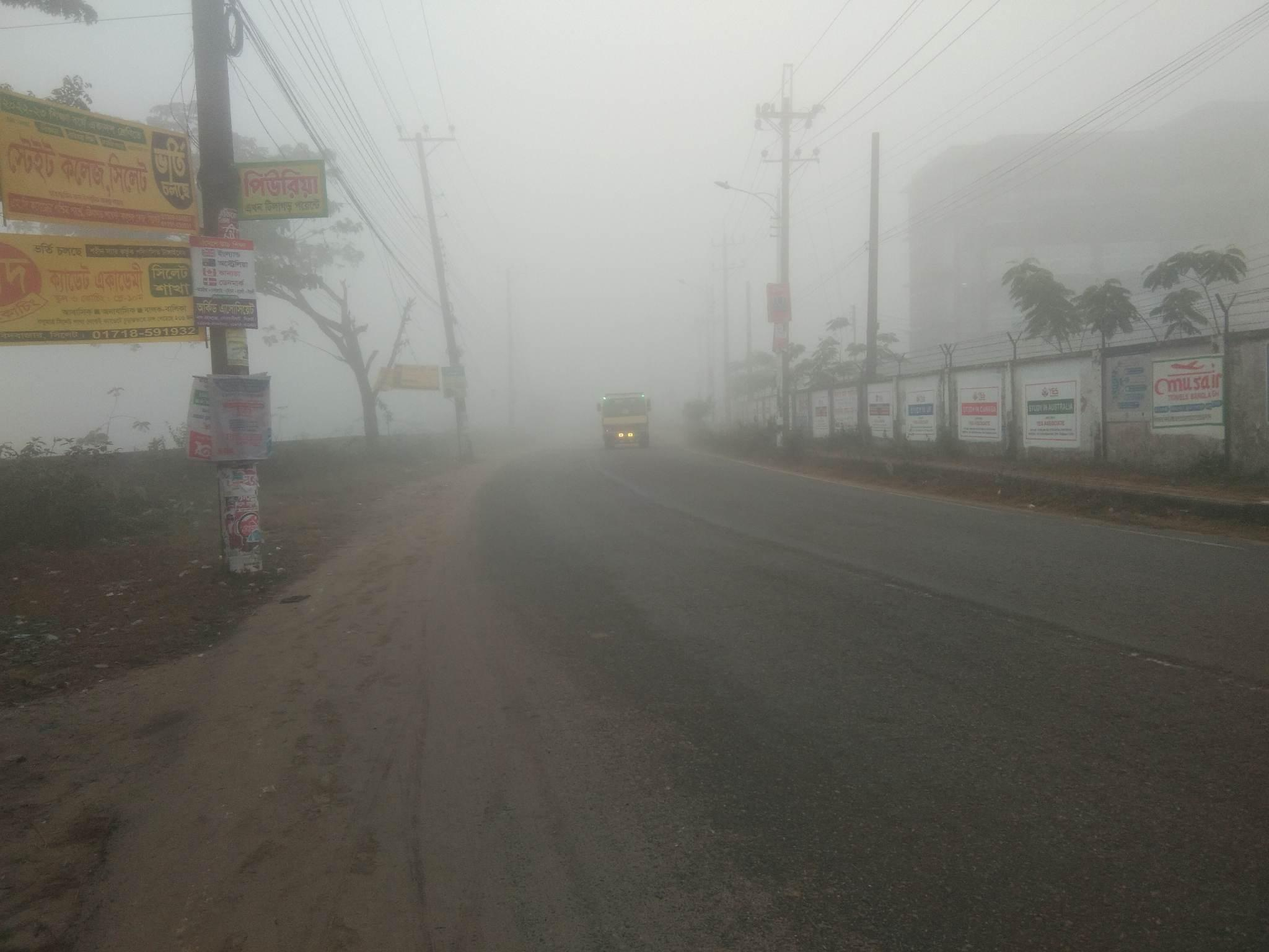Truck: (575, 374, 668, 470)
